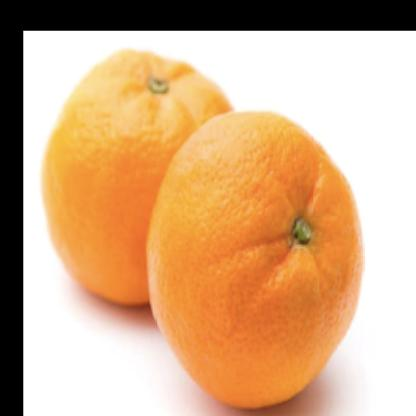fresh: (40, 49, 363, 416)
